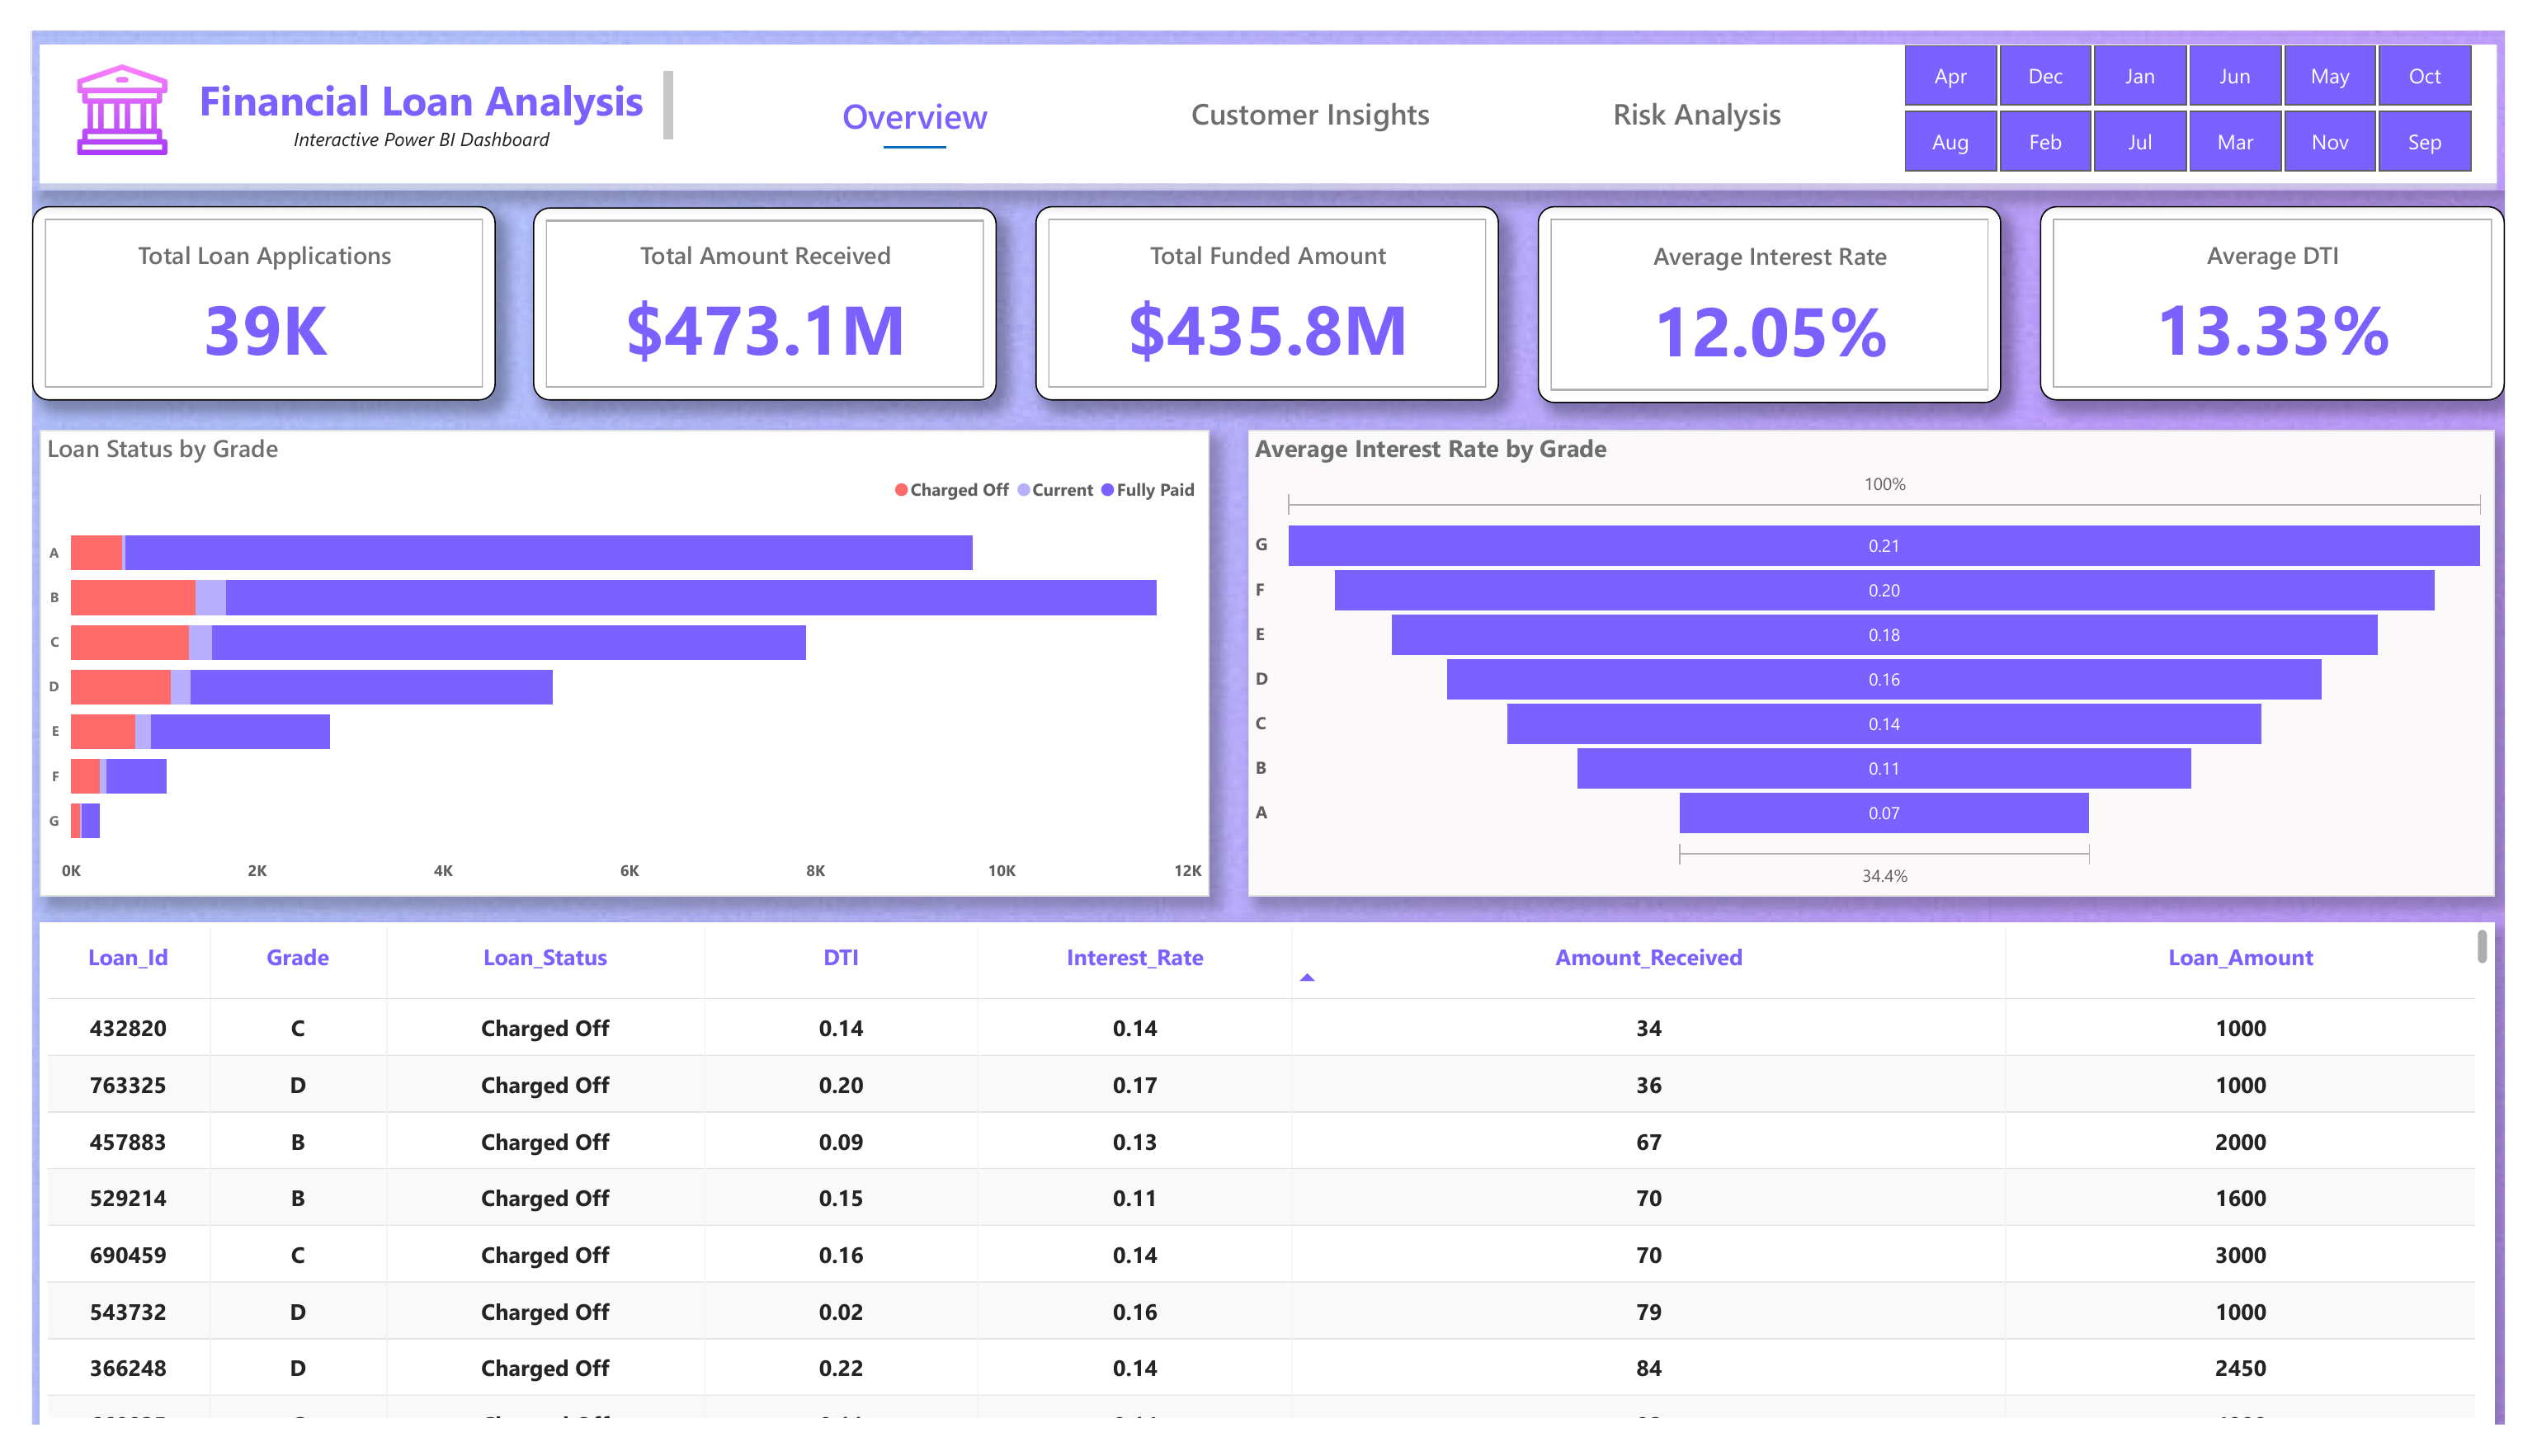

What the dashboard file says about the page in this screenshot:
{"tool":"powerbi","page":{"name":"Loan Overview ","canvas":[1920,1082],"ordinal":0},"visuals":[{"type":"cardVisual","fields":{"Data":["Dax Measures.Total Loan Applications"]},"box":[0,136.3,360,150.3],"z":0},{"type":"cardVisual","fields":{"Data":["Dax Measures.Total Funded Amount"]},"box":[778.8,136.3,360.7,150.3],"z":1000},{"type":"cardVisual","fields":{"Data":["Dax Measures.Total Amount Received"]},"box":[389.4,136.8,360,150],"z":2000},{"type":"cardVisual","fields":{"Data":["Dax Measures.Average Interest Rate"]},"box":[1168.8,136.3,360.7,152.3],"z":3000},{"type":"cardVisual","fields":{"Data":["Dax Measures.Average DTI"]},"box":[1558.9,136.3,360.7,150.3],"z":4000},{"type":"shape","box":[0,4.1,1920,120],"z":5000},{"type":"textbox","box":[110,25.7,392.6,75.5],"z":6000},{"type":"image","box":[30.2,21.4,79.8,79.8],"z":7000},{"type":"shape","box":[661.4,84.3,48.6,12.9],"z":8000},{"type":"actionButton","box":[621.3,43,129.4,41],"z":9000},{"type":"barChart","title":"Loan Status by Grade","fields":{"Category":["financial_loan.grade"],"Series":["financial_loan.loan_status"],"Y":["CountNonNull(financial_loan.id)"]},"box":[6,310,908,362],"z":10000},{"type":"actionButton","box":[892,44,202,40],"z":11000},{"type":"funnel","title":"Average Interest Rate by Grade","fields":{"Category":["financial_loan.grade"],"Y":["Avg(financial_loan.int_rate)"]},"box":[944,310,968,362],"z":12000},{"type":"actionButton","box":[1218,44,150,40],"z":13000},{"type":"tableEx","fields":{"Values":["financial_loan.id","financial_loan.grade","financial_loan.loan_status","financial_loan.dti","financial_loan.int_rate","financial_loan.total_payment","financial_loan.loan_amount"]},"box":[6,692,1906,390],"z":14000},{"type":"slicer","fields":{"Values":["financial_loan.Month"]},"box":[1428,4,490,112],"z":16000}]}

Visuals, with their boxes on the page's 1920x1082 design canvas (x1, y1, x2, y2). These are canvas units, not pixel positions in the 2537x1456 screenshot, which may show the page scaled, cropped or inside an application window:
cardVisual - Dax Measures.Total Loan Applications: rect(0, 136, 360, 287)
cardVisual - Dax Measures.Total Funded Amount: rect(779, 136, 1140, 287)
cardVisual - Dax Measures.Total Amount Received: rect(389, 137, 749, 287)
cardVisual - Dax Measures.Average Interest Rate: rect(1169, 136, 1530, 289)
cardVisual - Dax Measures.Average DTI: rect(1559, 136, 1920, 287)
shape: rect(0, 4, 1920, 124)
textbox: rect(110, 26, 503, 101)
image: rect(30, 21, 110, 101)
shape: rect(661, 84, 710, 97)
actionButton: rect(621, 43, 751, 84)
"Loan Status by Grade" barChart: rect(6, 310, 914, 672)
actionButton: rect(892, 44, 1094, 84)
"Average Interest Rate by Grade" funnel: rect(944, 310, 1912, 672)
actionButton: rect(1218, 44, 1368, 84)
tableEx - financial_loan.id x financial_loan.grade: rect(6, 692, 1912, 1082)
slicer - financial_loan.Month: rect(1428, 4, 1918, 116)
